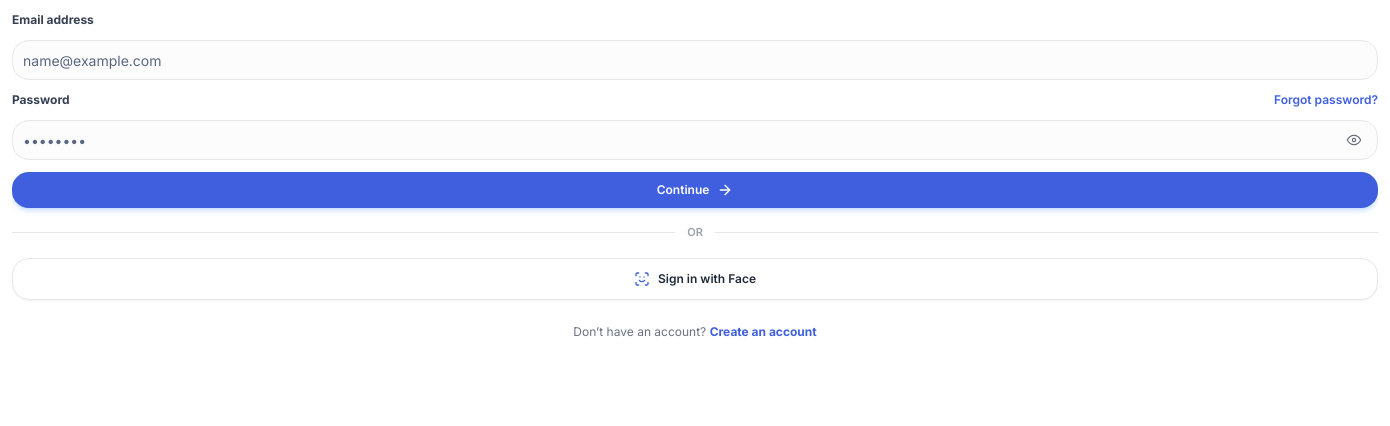
Test: LoginForm › does not navigate if the server returns another account identity
In the field labelled "Email address": coordinates (695, 60) x1=12 y1=40 x2=1378 y2=80, type "c@test.dev"
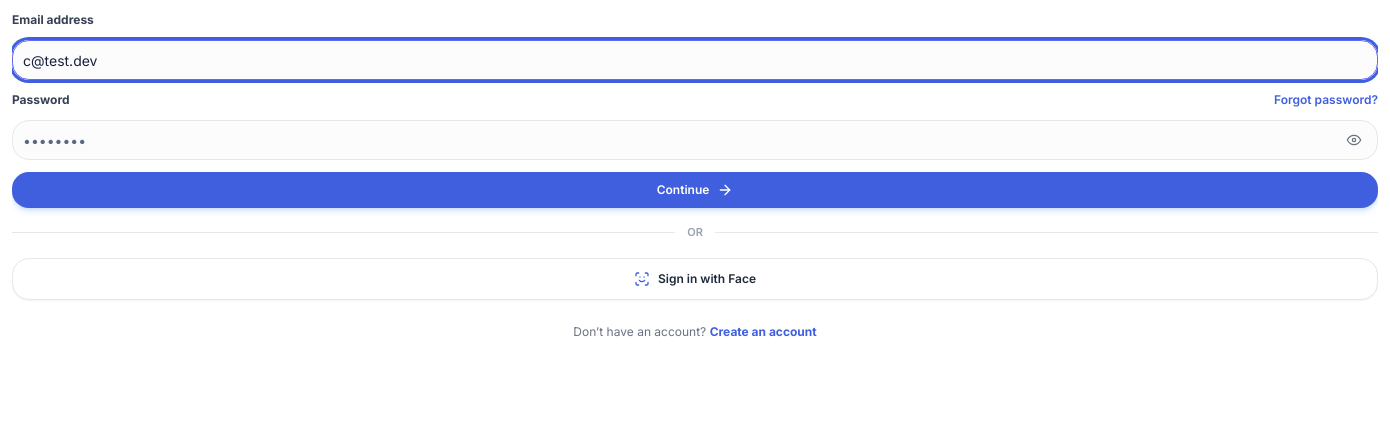
In the password field labelled "Password": coordinates (695, 140) x1=12 y1=120 x2=1378 y2=160, type "Password123!"
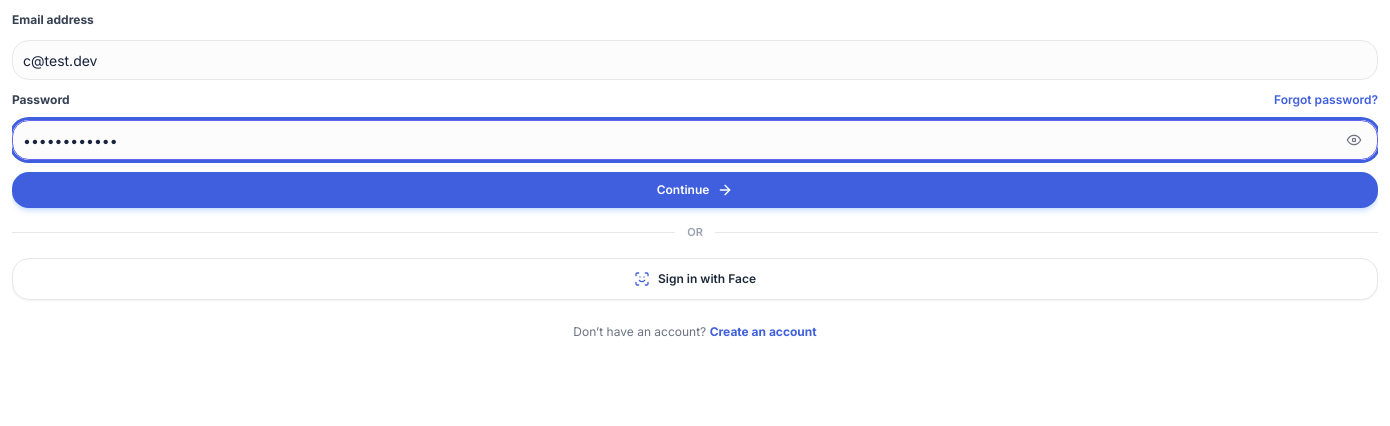
Click the button "Continue": coordinates (695, 190) x1=12 y1=172 x2=1378 y2=208
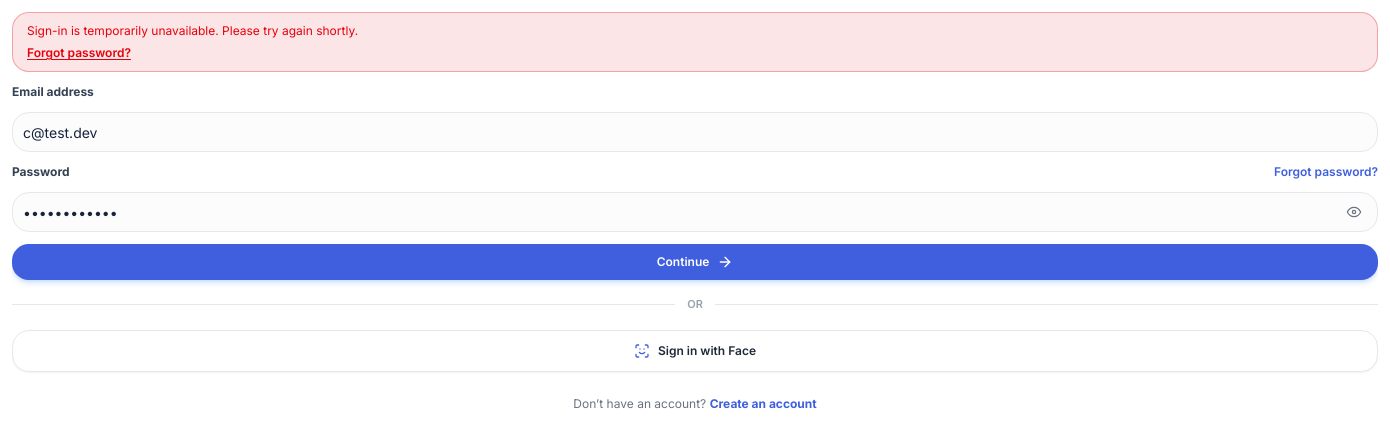
Expected: the text "Sign-in is temporarily unavailable" is shown, x1=27 y1=23 x2=358 y2=38
